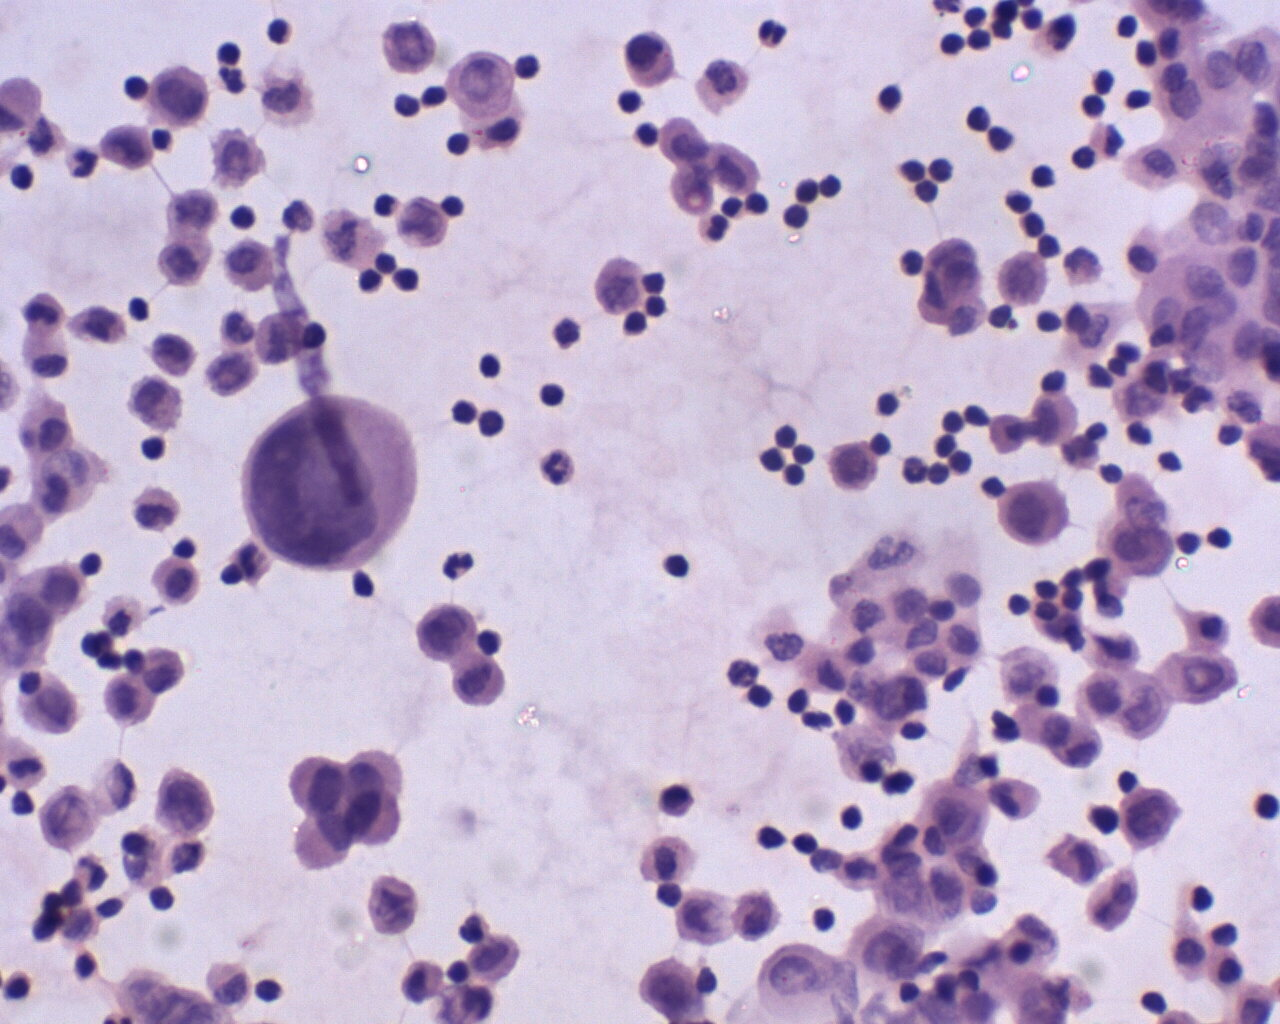ab: (243, 394, 424, 572), (152, 765, 220, 836), (140, 62, 212, 130), (378, 17, 448, 78), (1118, 786, 1180, 851), (821, 441, 879, 493)
lymph: (260, 14, 299, 50), (509, 47, 545, 86), (775, 202, 816, 235), (869, 387, 907, 421), (657, 546, 692, 580), (1204, 520, 1236, 556), (1251, 786, 1280, 824), (753, 822, 789, 854), (741, 685, 775, 716), (1109, 11, 1144, 41), (539, 378, 572, 410), (1026, 160, 1058, 190), (809, 904, 841, 933), (227, 205, 260, 232), (987, 122, 1017, 152), (879, 82, 906, 110), (478, 353, 503, 381)
meso: (994, 480, 1070, 549), (223, 233, 281, 297), (625, 30, 680, 89), (150, 553, 197, 608)
neutro: (536, 445, 576, 486), (438, 549, 478, 581)
